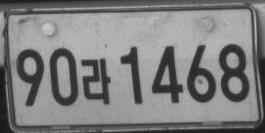0: (48, 46, 79, 106)
1: (117, 45, 146, 104)
4: (151, 45, 183, 103)
6: (186, 44, 217, 104)
8: (217, 42, 250, 102)
9: (15, 48, 45, 106)
라: (81, 57, 111, 105)
